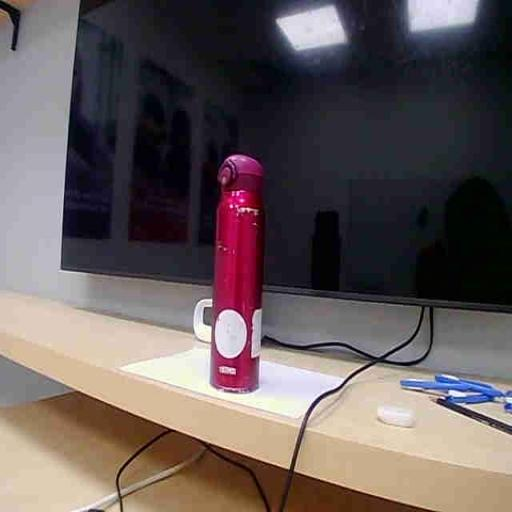bottle: (211, 155, 263, 392)
